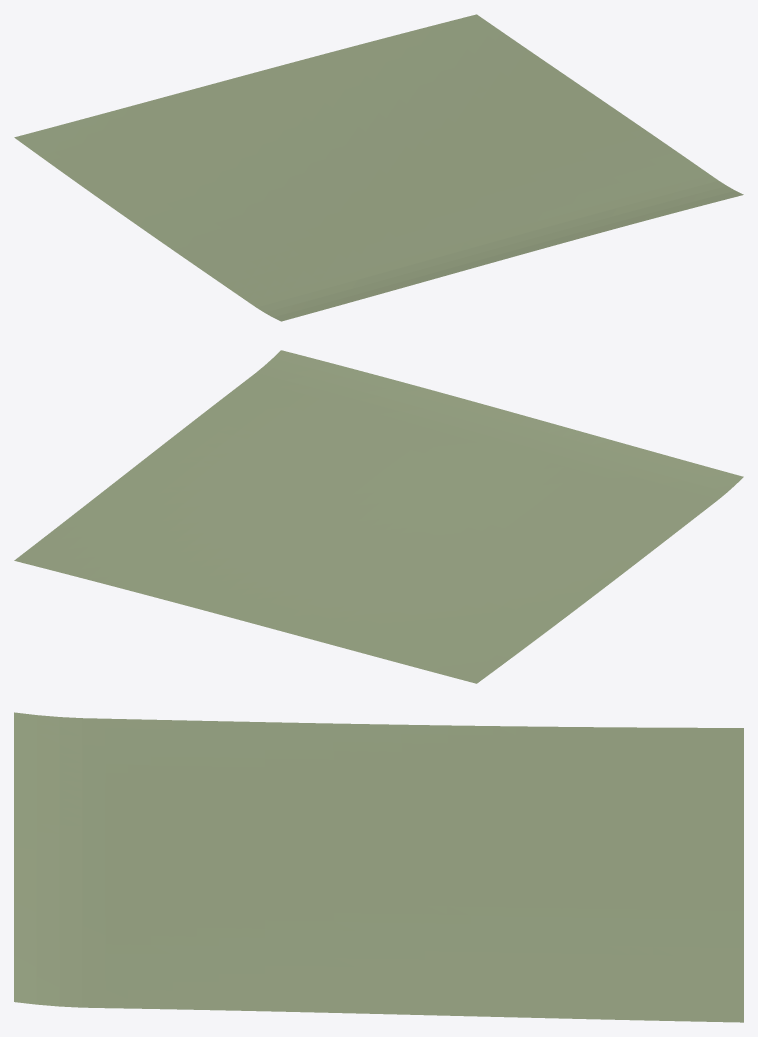
File: expanse-18-0.glb
3 views of the same model, one above another, from view 1: azimuth 30°, elevation 25°; view 2: azimuth 150°, elevation 25°; view 3: azimuth 270°, elevation 25° (orthographic). The views are drawn at different scales.
Visible parts, largest first — view 1: expanse-18-0; view 2: expanse-18-0; view 3: expanse-18-0.
Part boxes in pixels (bbox=[...]): expanse-18-0: bbox=[14, 14, 743, 321]; expanse-18-0: bbox=[14, 350, 743, 683]; expanse-18-0: bbox=[14, 712, 743, 1022].
Bounding box in the file's own units: 256 × 13.32 × 256.
